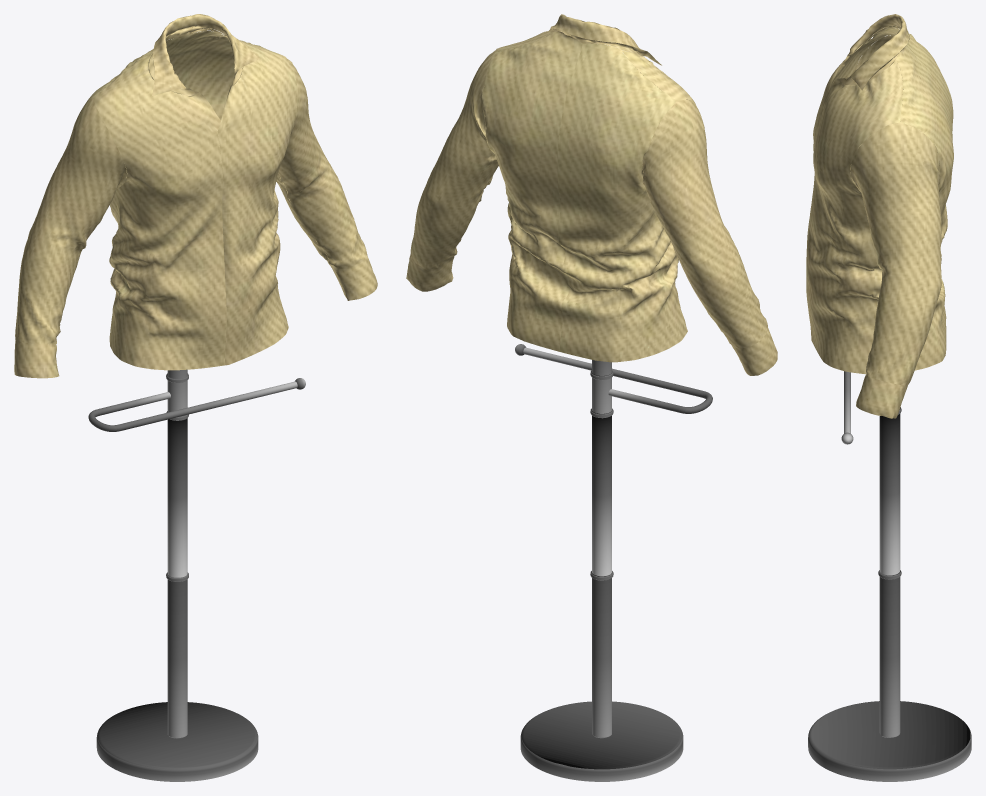
The model's file is maniqui2.obj.
3 views of the same model, side by side, from view 1: azimuth 30°, elevation 25°; view 2: azimuth 150°, elevation 25°; view 3: azimuth 270°, elevation 25° (orthographic).
Visible parts, largest first — view 1: maniqui2; view 2: maniqui2; view 3: maniqui2.
Boxes of the visible parts, <box> form: maniqui2: <box>14,14,377,781</box>; maniqui2: <box>406,14,777,781</box>; maniqui2: <box>806,14,971,781</box>.
Bounding box in the file's own units: 14.36 × 27.65 × 5.67.
Materials: 2 (2 with a texture image).
